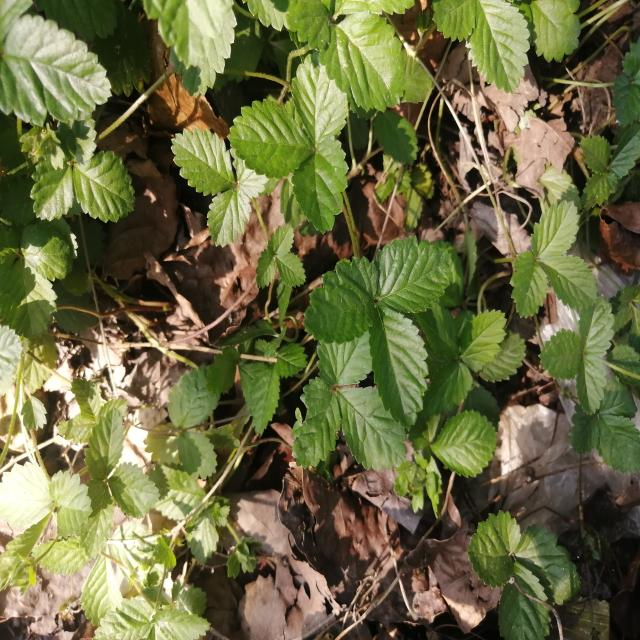Mock_strawberry: (276, 230, 500, 484), (182, 76, 373, 226)
